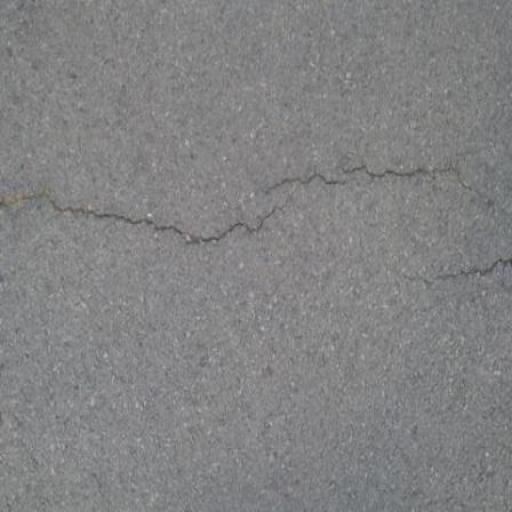spalling: (7, 147, 495, 261), (398, 238, 507, 292)
